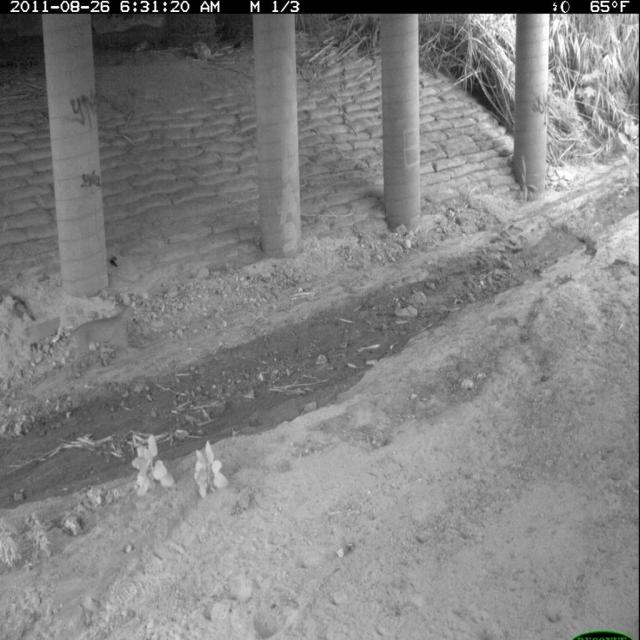bobcat: (61, 299, 137, 384)
